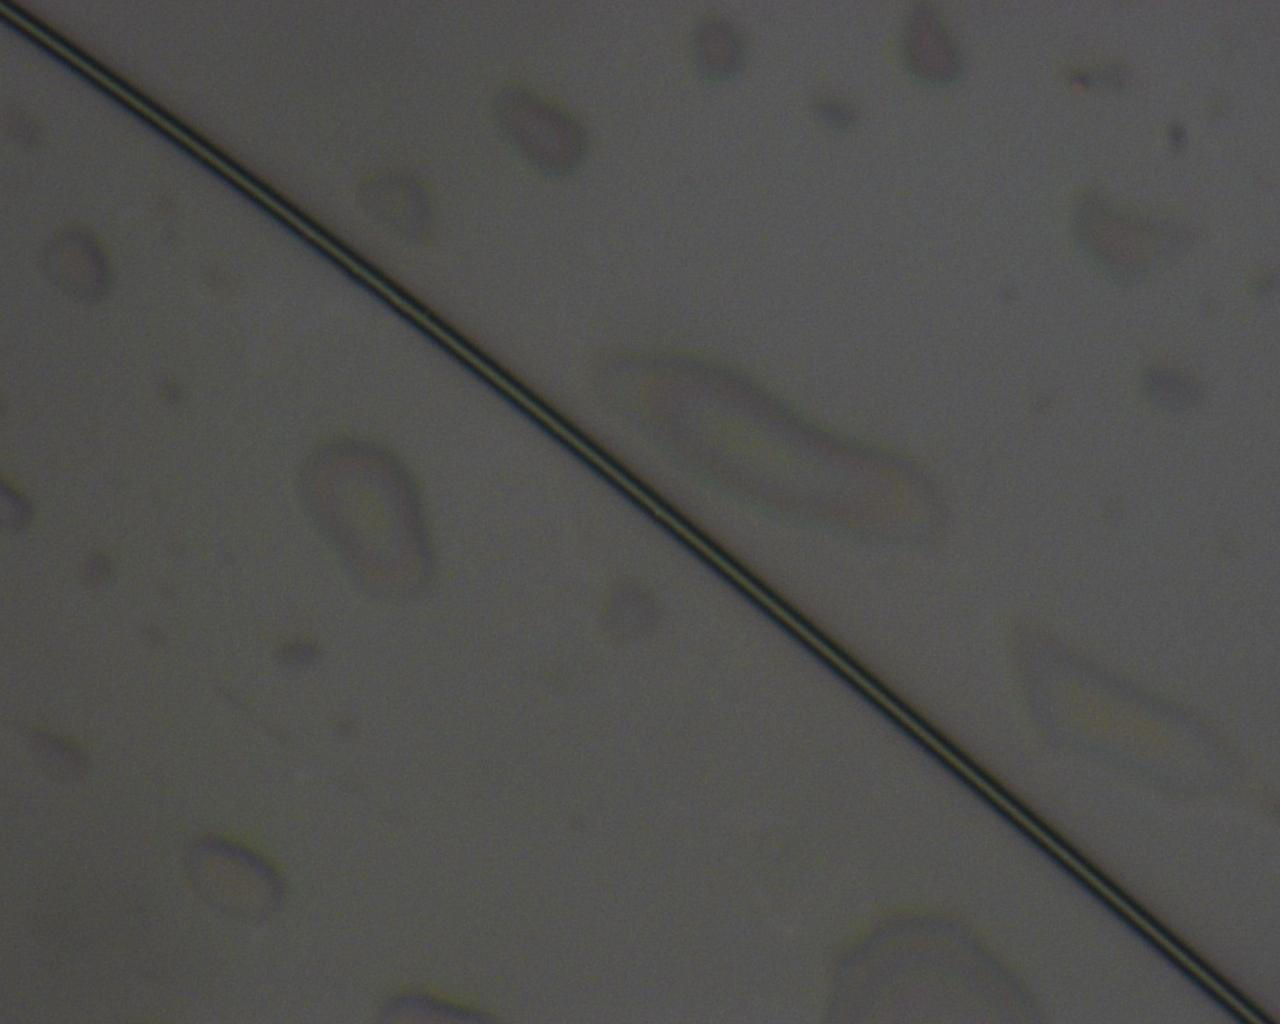fiber: (0, 0, 1277, 1024)
